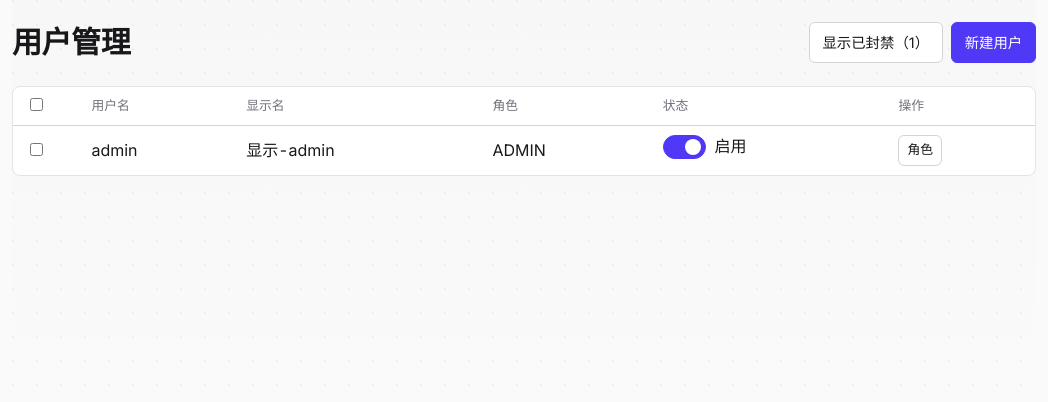
Test: UsersView 封禁默认隐藏（P26，FR-AUTH-06） › BLOCKED 账号默认不出现在列表，开关按需展开
Expected: the text "p-walk" is not shown
What coordinates should you click on to do the following:
click the button with test id "toggle-blocked"
I would click on:
 (876, 43)
Its box is [809, 22, 943, 63].
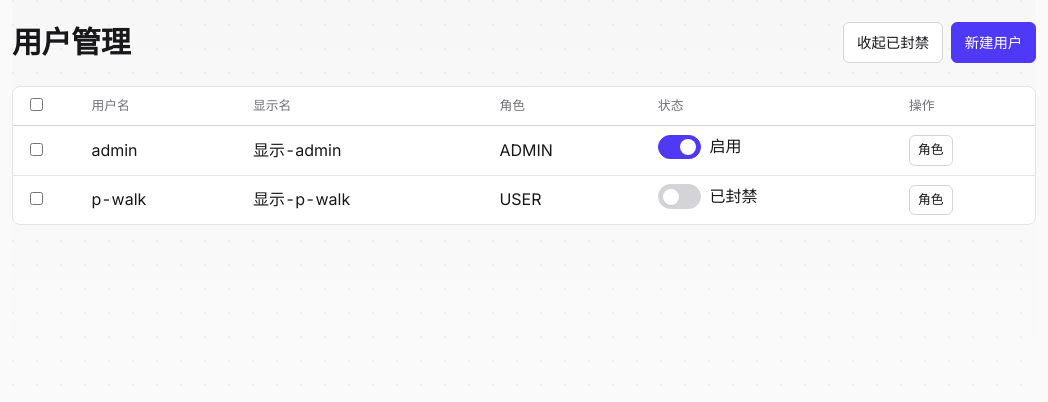
Expected: the text "p-walk" is shown, [79, 176, 240, 224]
Expected: the button with test id "toggle-blocked" reads "收起已封禁", [843, 22, 943, 63]
